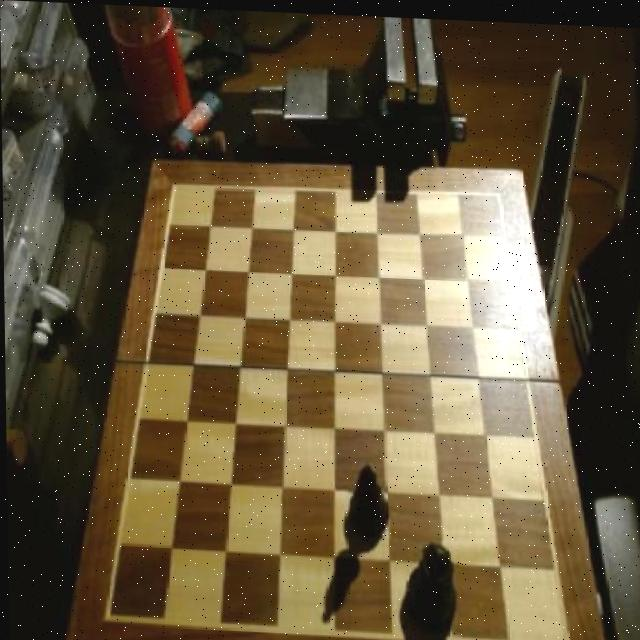bishop: (346, 453, 390, 537)
black-pawn: (401, 537, 460, 635)
